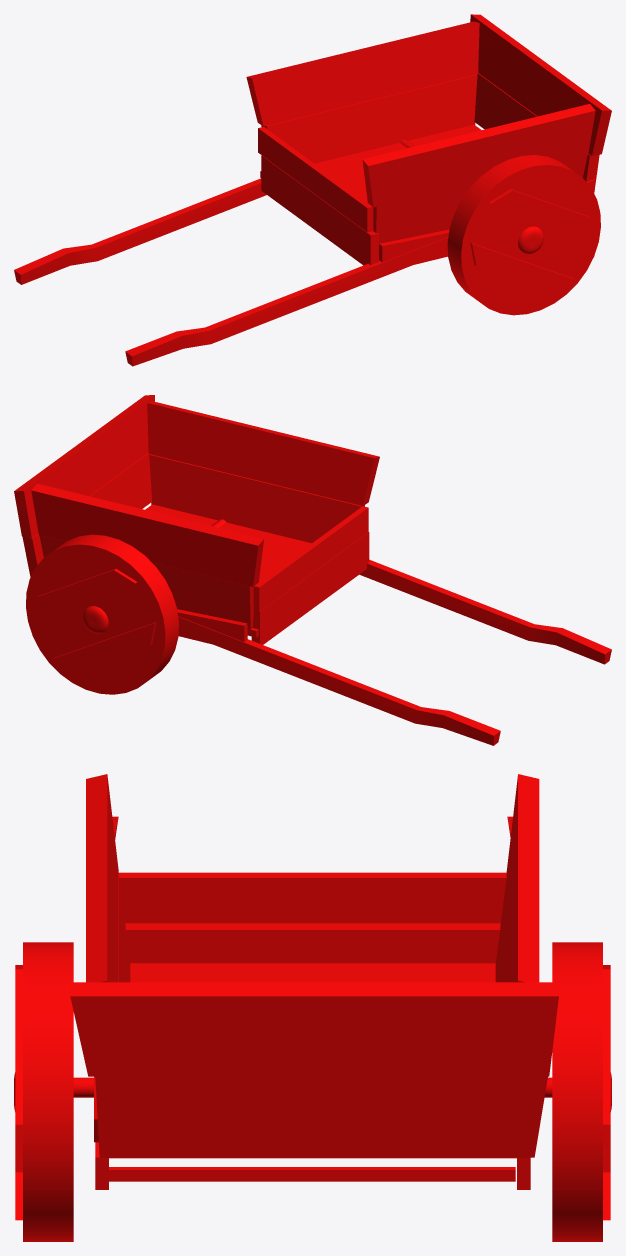
Rendered from cart.fbx.
The picture shows the model from 3 angles, top to bottom: view 1: azimuth 30°, elevation 25°; view 2: azimuth 150°, elevation 25°; view 3: azimuth 270°, elevation 25°; orthographic projection. The views are drawn at different scales.
Visible parts, largest first — view 1: cart; view 2: cart; view 3: cart.
Part boxes in pixels (x1=…): cart: x1=14, y1=14, x2=611, y2=366; cart: x1=14, y1=395, x2=611, y2=745; cart: x1=14, y1=774, x2=611, y2=1241.
Bounding box in the file's own units: 235 × 81.93 × 138.
